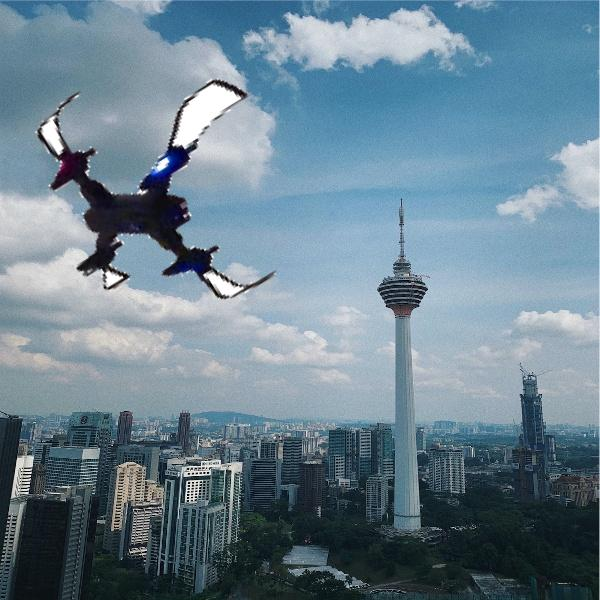drone: (38, 50, 316, 328)
